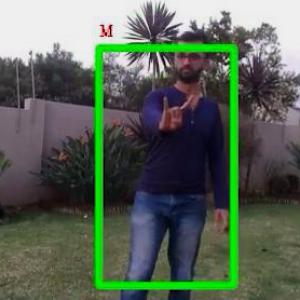takeoff-hand: (149, 86, 198, 135)
